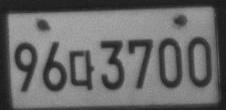0: (186, 35, 213, 88), (157, 36, 183, 89)
3: (99, 39, 125, 90)
6: (41, 41, 67, 92)
7: (127, 38, 153, 89)
9: (13, 41, 38, 93)
다: (68, 49, 95, 90)
